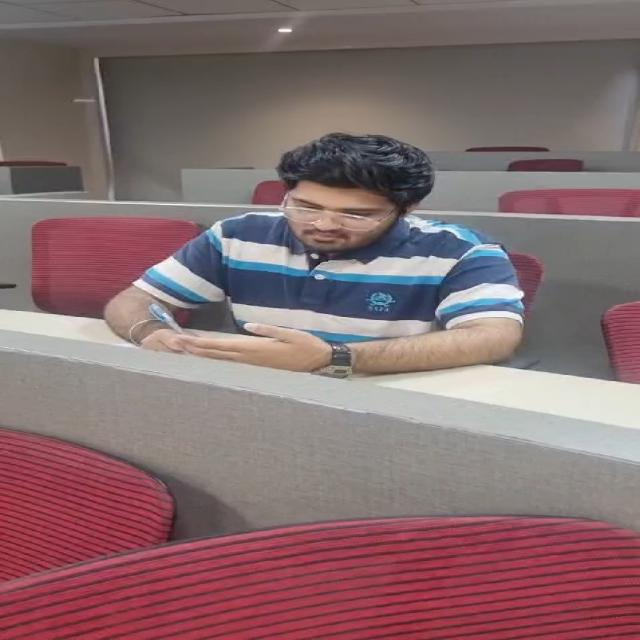cheating: (148, 128, 546, 376)
